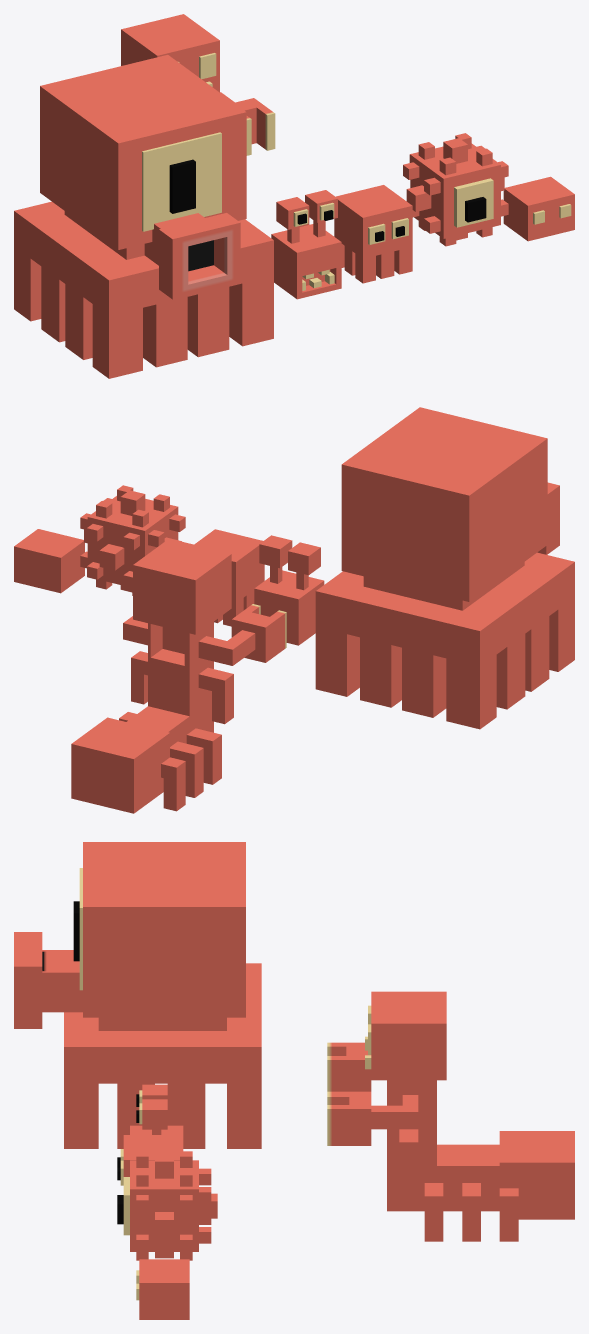
File: squids.dae
The picture shows the model from 3 angles, top to bottom: view 1: azimuth 30°, elevation 25°; view 2: azimuth 150°, elevation 25°; view 3: azimuth 270°, elevation 25°; orthographic projection. The views are drawn at different scales.
Visible parts, largest first — view 1: Box, _2, _4, object 1, _1, Merged_Compound, Box_7, Box_1, Box_6; view 2: Box, Merged_Compound, _2, _1, Box_7, object 1, _4; view 3: Box, Merged_Compound, _2, _4, Box_7, _1, object 1.
Part boxes in pixels (left/top/right/bottom): Box: left=14, top=55, right=273, bottom=378; _2: left=403, top=133, right=508, bottom=246; _4: left=144, top=213, right=240, bottom=299; object 1: left=334, top=185, right=412, bottom=283; _1: left=271, top=190, right=341, bottom=299; Merged_Compound: left=121, top=14, right=275, bottom=155; Box_7: left=503, top=176, right=574, bottom=241; Box_1: left=169, top=159, right=195, bottom=213; Box_6: left=465, top=197, right=486, bottom=222; Box: left=315, top=407, right=574, bottom=729; Merged_Compound: left=71, top=538, right=286, bottom=813; _2: left=80, top=485, right=185, bottom=595; _1: left=254, top=535, right=324, bottom=645; Box_7: left=14, top=529, right=84, bottom=593; object 1: left=194, top=529, right=264, bottom=626; _4: left=537, top=482, right=559, bottom=554; Box: left=64, top=842, right=261, bottom=1148; Merged_Compound: left=327, top=991, right=574, bottom=1241; _2: left=123, top=1151, right=217, bottom=1260; _4: left=14, top=932, right=82, bottom=1028; Box_7: left=136, top=1259, right=189, bottom=1319; _1: left=130, top=1084, right=183, bottom=1134; object 1: left=120, top=1135, right=183, bottom=1185.
Size of the model in its own units: 192 by 95 by 179.
Materials: 1 (1 with a texture image).
